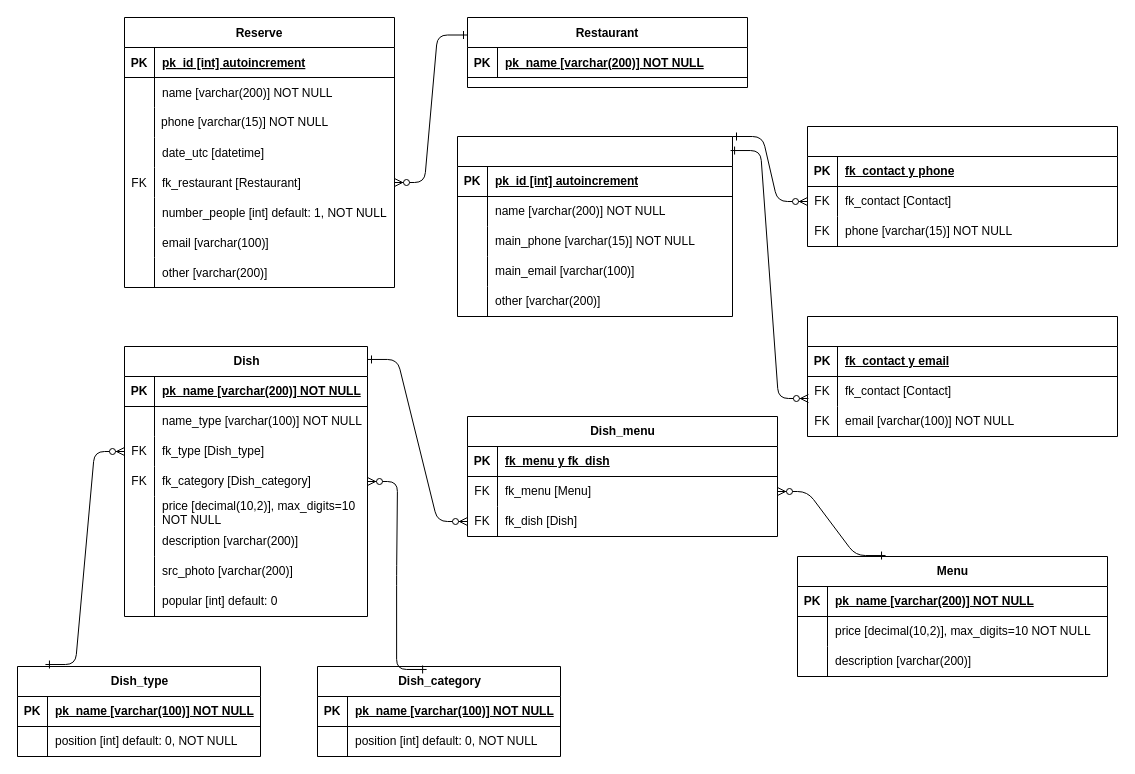
Image size: 1135x774. Some labels were removed from this diagram. Here are the shapes that lost their labels. From the top down, the box of each, then its label:
(806, 126, 1118, 246): Contact_Phone
(456, 136, 732, 316): Contact
(806, 316, 1118, 436): Contact_Mail
